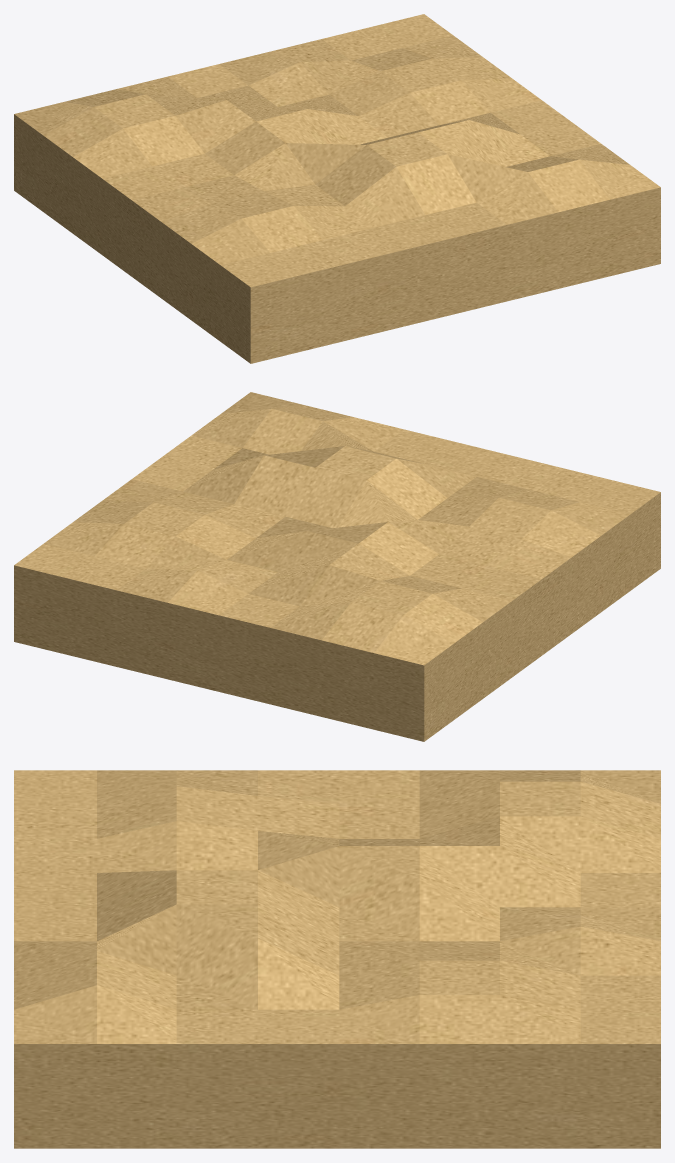
File: Sand.fbx
3 views of the same model, one above another, from view 1: azimuth 30°, elevation 25°; view 2: azimuth 150°, elevation 25°; view 3: azimuth 270°, elevation 25° (orthographic). The views are drawn at different scales.
Visible parts, largest first — view 1: Sand; view 2: Sand; view 3: Sand.
Boxes of the visible parts, x1=… form: Sand: x1=14, y1=14, x2=660, y2=363; Sand: x1=14, y1=392, x2=660, y2=741; Sand: x1=14, y1=770, x2=660, y2=1148.
Size of the model in its own units: 325 by 78.46 by 325.
Materials: 1 (1 with a texture image).
